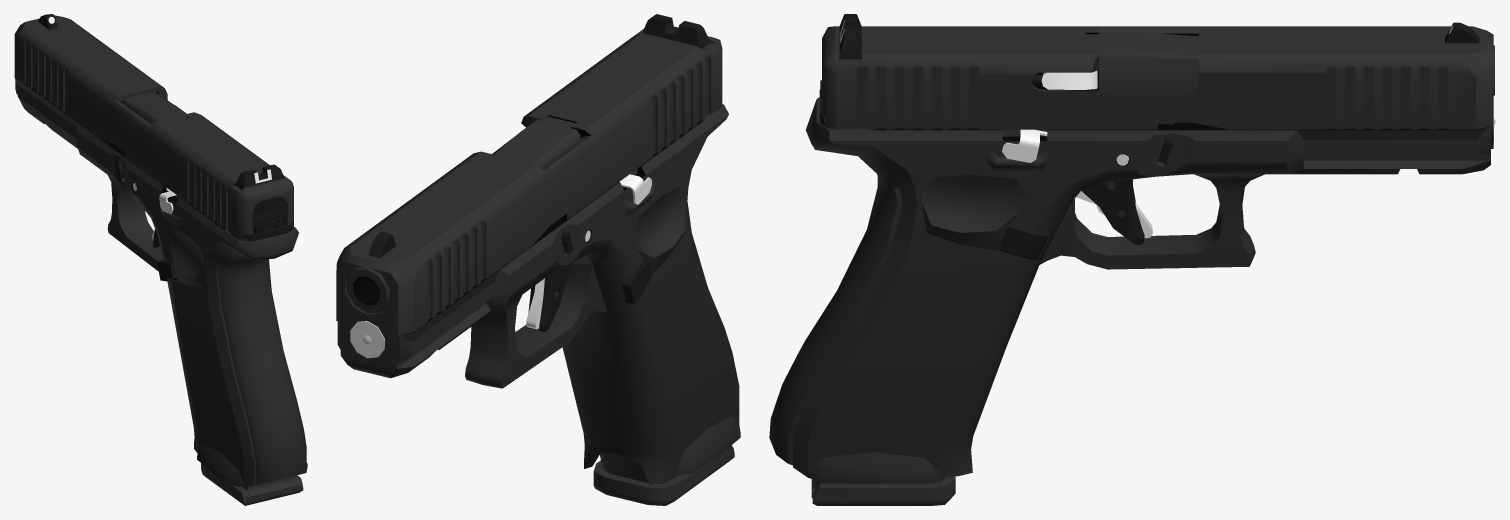
3 views of the same model, side by side, from view 1: azimuth 30°, elevation 25°; view 2: azimuth 150°, elevation 25°; view 3: azimuth 270°, elevation 25° (orthographic). The views are drawn at different scales.
Visible parts, largest first — view 1: base, slide, mag, barrel; view 2: base, slide, barrel, mag, slid, sliderealise; view 3: base, slide, barrel, mag, sliderealise.
Boxes of the visible parts, <box> form: base: <box>14,76,307,487</box>; slide: <box>14,14,293,240</box>; mag: <box>174,195,303,505</box>; barrel: <box>120,92,187,123</box>; base: <box>337,103,740,485</box>; slide: <box>336,14,722,363</box>; barrel: <box>346,116,580,313</box>; mag: <box>593,169,734,505</box>; slid: <box>350,321,384,358</box>; sliderealise: <box>619,174,651,204</box>; base: <box>769,80,1490,483</box>; slide: <box>822,14,1493,148</box>; barrel: <box>1086,32,1494,124</box>; mag: <box>811,129,1047,505</box>; sliderealise: <box>1002,129,1047,162</box>.
Size of the model in its own units: 36.19 by 141 by 201.
